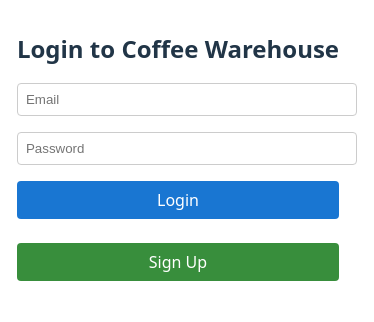
Test case: AuthPage › shows error for invalid email
Step 1. Type "invalid" into the field with placeholder "Email" → (187, 100), box [17,83,357,116]
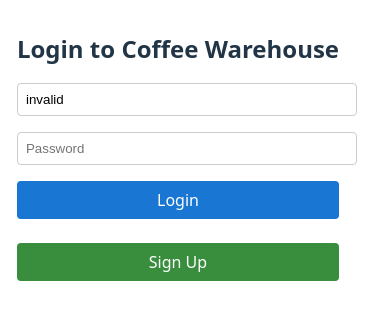
Step 2. Type "password" into the password field with placeholder "Password" → (187, 148), box [17,132,357,165]
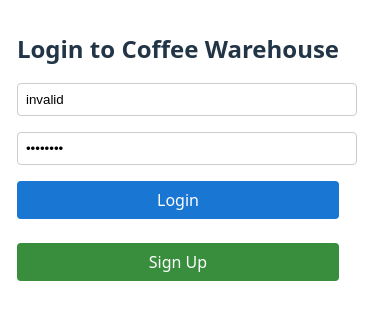
Wrap in act to avoid React warning
Step 3. Click the button "Login" → (178, 200), box [17,181,339,219]
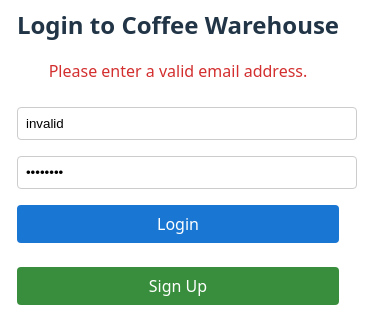
Expected: the text "Please enter a valid email address." is shown, [49,60,307,82]
